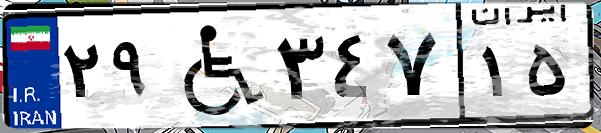1: (475, 38, 525, 113)
2: (57, 26, 110, 100)
3: (270, 28, 330, 110)
4: (330, 28, 385, 110)
5: (525, 38, 570, 115)
7: (385, 28, 445, 110)
9: (110, 28, 158, 98)
ژ (معلولین و جانبازان): (158, 12, 270, 120)
